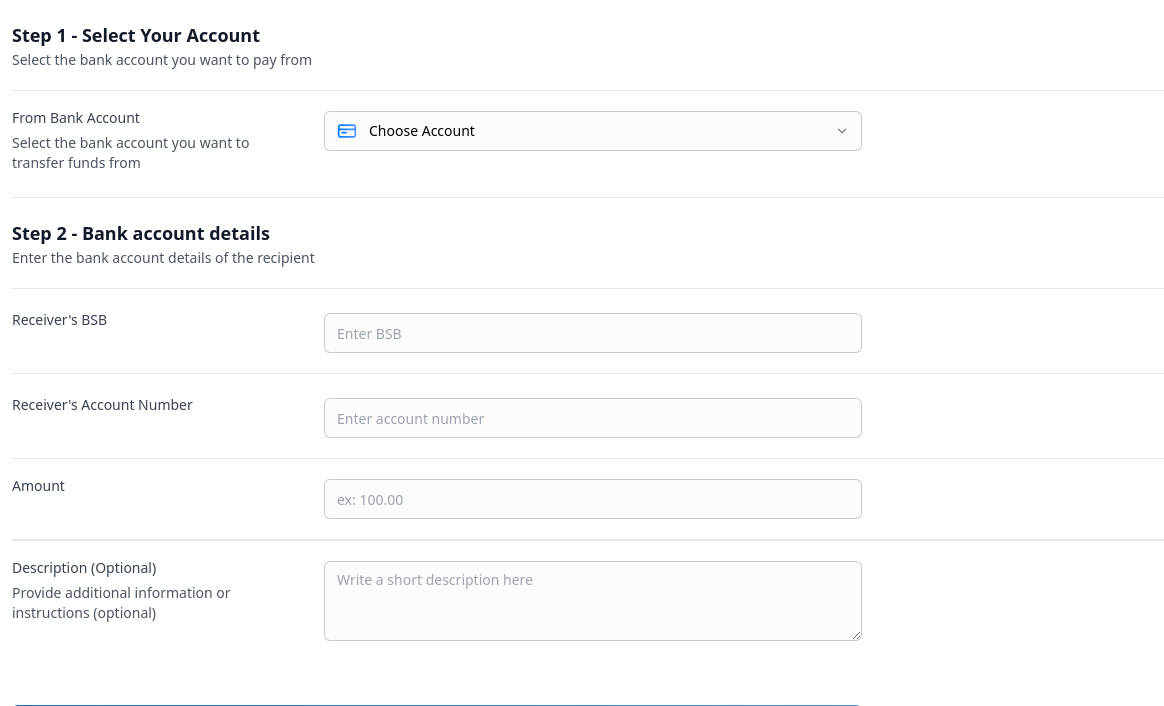
Test: PayAnyoneForm Component › should display error when BSB or account number is invalid
The image size is (1164, 706).
# Fill in invalid BSB and account number
Type "123" into the field with placeholder "Enter BSB". click: (593, 333)
box: [324, 313, 862, 353]
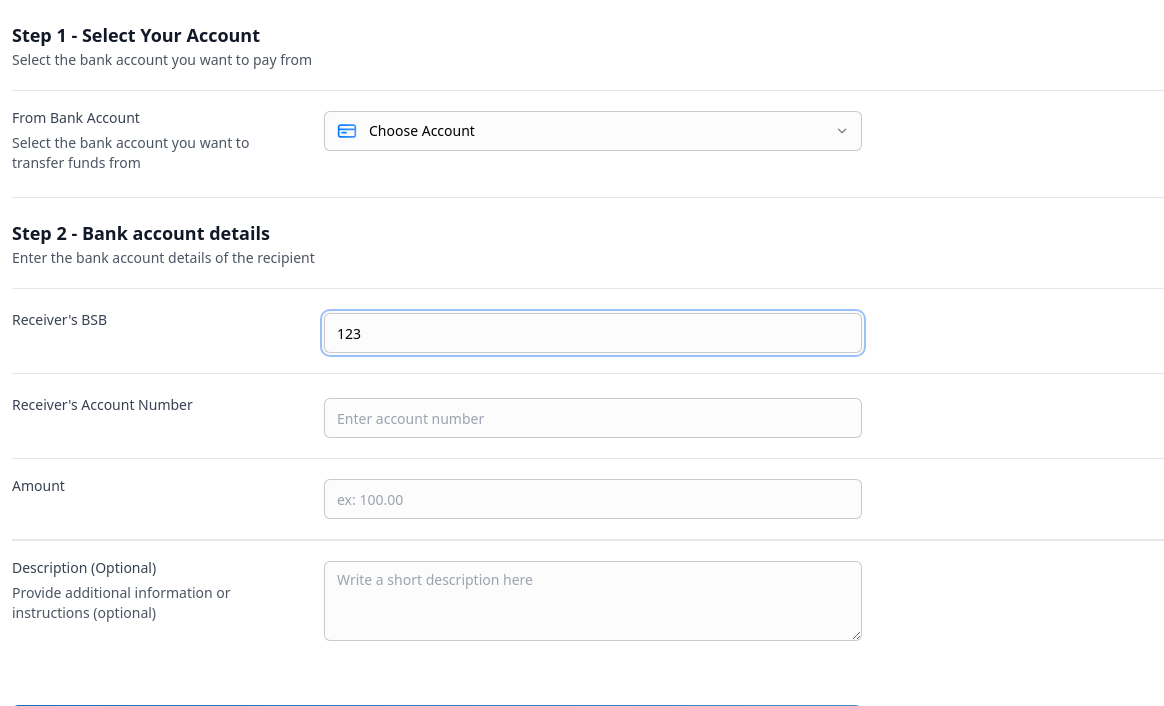
Type "abc" into the field with placeholder "Enter account number". click: (593, 418)
box: [324, 398, 862, 438]
(page scrolled)
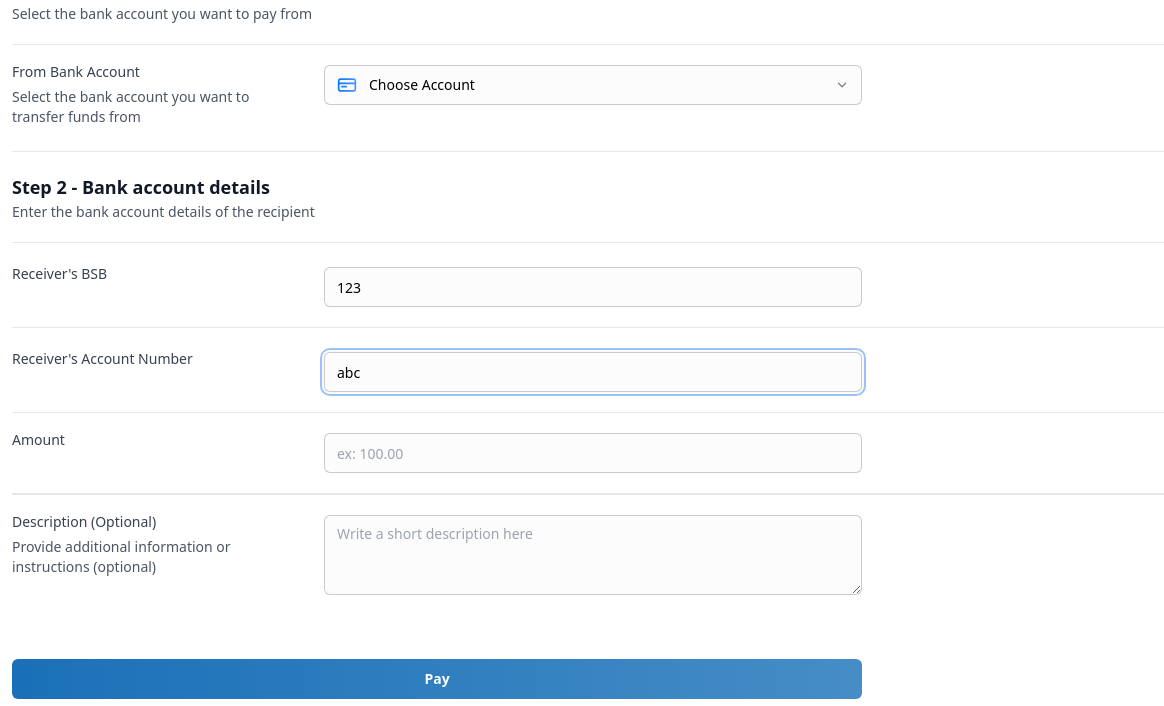
# Click on submit button
Click the button "Pay". click: (437, 679)
box: [12, 659, 862, 699]
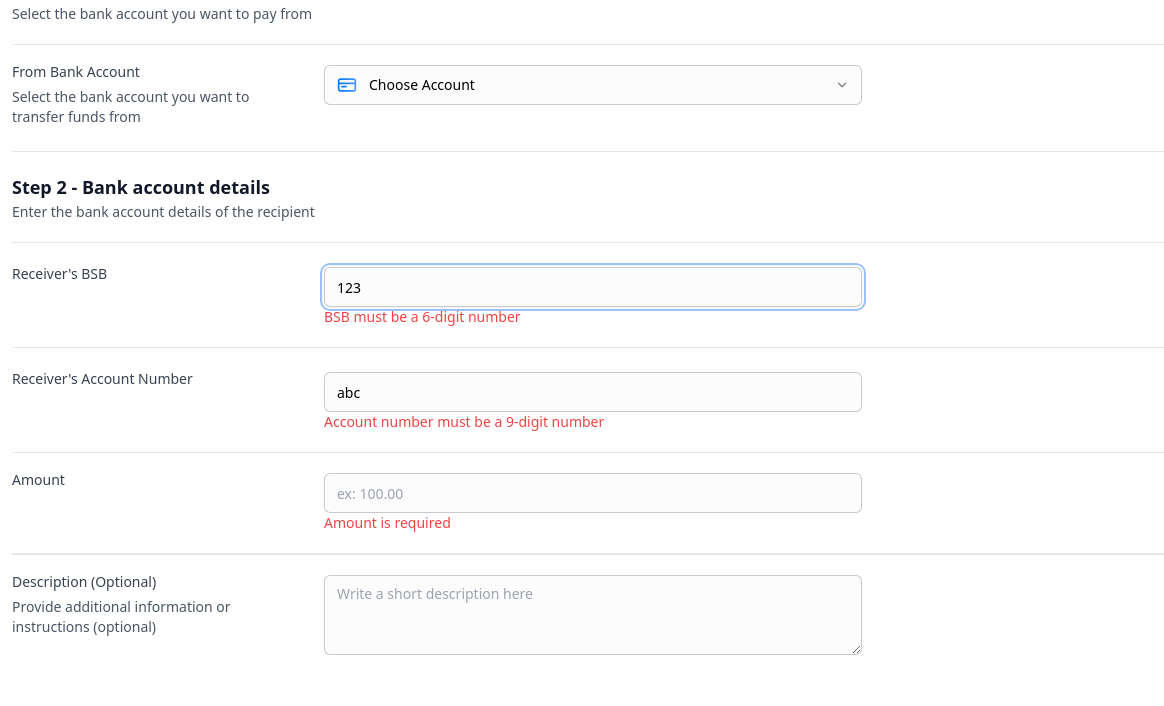
Now the text "BSB must be a 6-digit number" is shown, box [324, 307, 521, 326]
Now the text "Account number must be a 9-digit number" is shown, box [324, 412, 604, 431]
